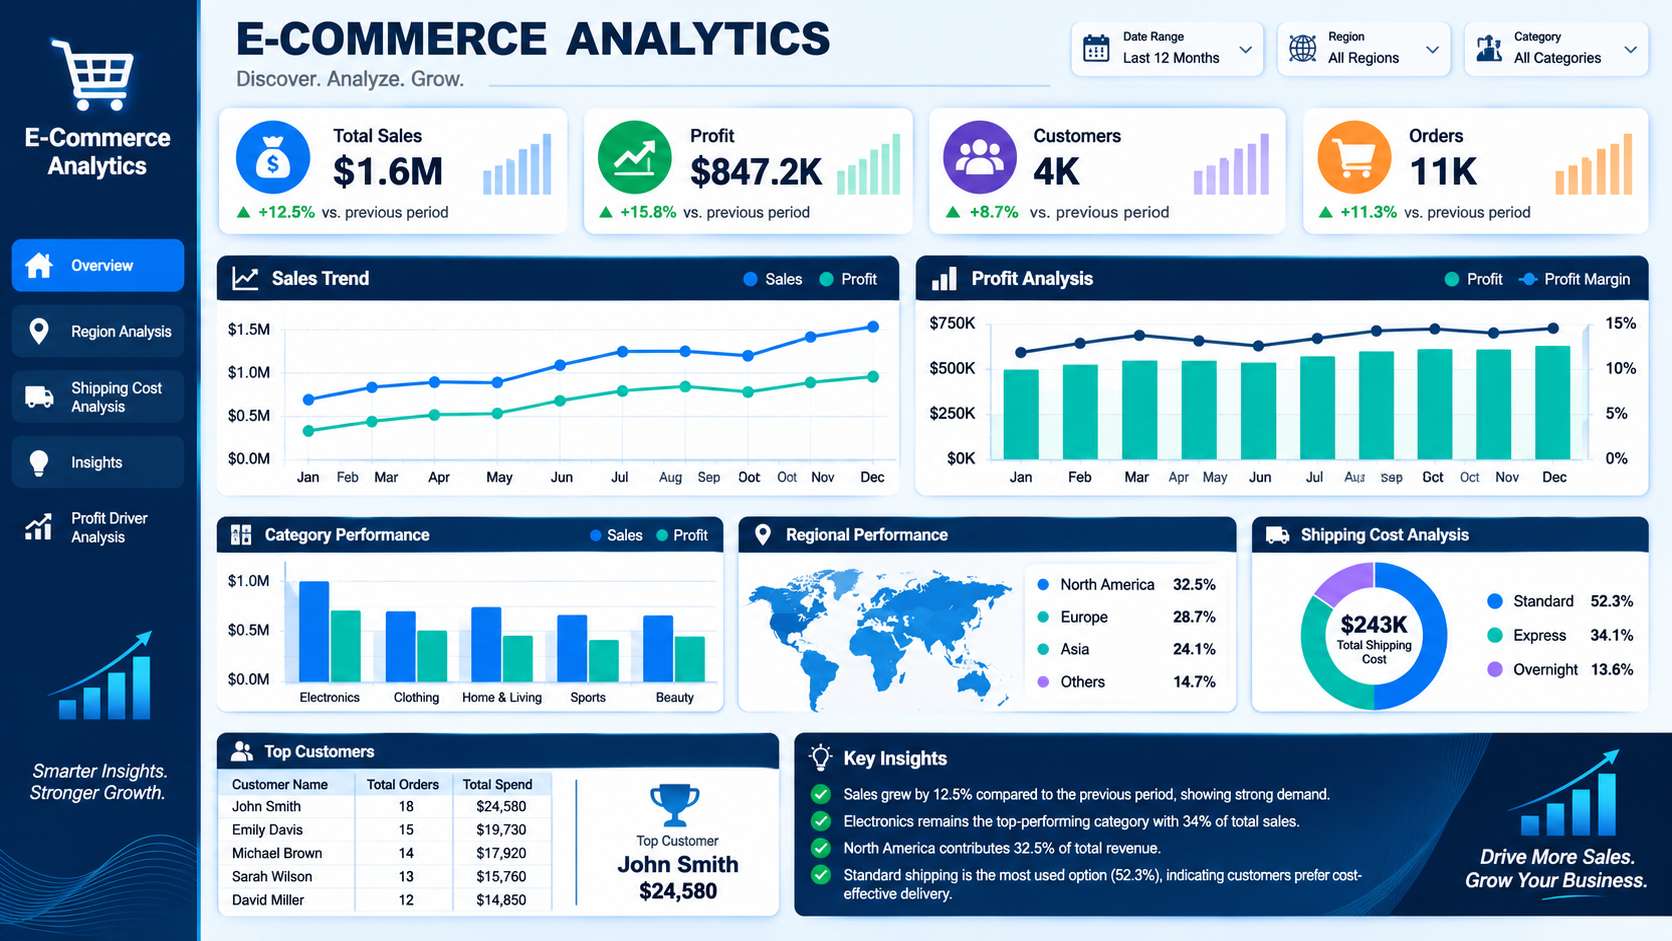

The dashboard page shown, as its layout file describes it:
{"tool":"powerbi","page":{"name":"Home","canvas":[1920,1080],"ordinal":0},"visuals":[{"type":"shape","box":[370.6,0,1054.6,172.9],"z":0},{"type":"textbox","title":"E-Commerce Analyis","box":[661.6,49.7,532.3,69.6],"z":1000},{"type":"image","box":[518.6,7.5,120.6,165.4],"z":2000},{"type":"shape","box":[21.1,148,431.6,204],"z":3000},{"type":"cardVisual","fields":{"Data":["Measures (2).Total Sales"]},"box":[64.7,210.2,344.5,102],"z":4000},{"type":"textbox","title":"Sales by Category","box":[131.8,386.8,552.2,44.8],"z":5000},{"type":"shape","box":[452.7,148,431.6,204],"z":6000},{"type":"cardVisual","fields":{"Data":["Measures (2).Profit"]},"box":[488.6,203.3,344.5,102],"z":7000},{"type":"textbox","title":"Profit","box":[545.8,183.4,238.8,44.8],"z":8000},{"type":"shape","box":[907.9,151.7,431.6,204],"z":9000},{"type":"shape","box":[1358.1,151.7,431.6,204],"z":10000},{"type":"cardVisual","fields":{"Data":["Measures (2).Total Customers"]},"box":[957.2,211.3,344.5,102],"z":11000},{"type":"textbox","title":"Total Customers","box":[1014.5,191.4,238.8,44.8],"z":12000},{"type":"cardVisual","fields":{"Data":["Measures (2).Total Orders"]},"box":[1406,212.3,344.5,102],"z":13000},{"type":"textbox","title":"Total Orders","box":[1463.2,192.4,238.8,44.8],"z":14000},{"type":"slicer","fields":{"Values":["dim_region.Region"]},"box":[1657.8,355.7,236.3,114.4],"z":15000},{"type":"slicer","fields":{"Values":["dim_products.Category"]},"box":[1657.8,480.1,236.3,150.5],"z":16000},{"type":"actionButton","box":[1676.5,24.9,200.2,126.9],"z":17000},{"type":"shape","box":[0,325.8,847,737.5],"z":18000},{"type":"clusteredColumnChart","fields":{"Category":["dim_products.Category"],"Y":["Measures (2).Total Sales"]},"box":[64.7,467.6,720.1,497.5],"z":19000},{"type":"textbox","title":"Total Sales","box":[131.8,187.8,238.8,44.8],"z":20000},{"type":"shape","box":[810.9,325.8,847,737.5],"z":21000},{"type":"clusteredColumnChart","fields":{"Category":["dim_products.Category"],"Y":["Measures (2).Profit"]},"box":[874.3,467.6,720.1,497.5],"z":22000},{"type":"textbox","title":"Profit by Category","box":[1105.6,386.8,344.5,44.8],"z":23000}]}

Visuals, with their boxes in screenshot pixels (x1, y1, x2, y2), scaled from the page's 1920x1080 canvas onto the 1672x941 screenshot:
shape: <box>323,0,1241,151</box>
"E-Commerce Analyis" textbox: <box>576,43,1040,104</box>
image: <box>452,7,557,151</box>
shape: <box>18,129,394,307</box>
cardVisual - Measures (2).Total Sales: <box>56,183,356,272</box>
"Sales by Category" textbox: <box>115,337,596,376</box>
shape: <box>394,129,770,307</box>
cardVisual - Measures (2).Profit: <box>425,177,725,266</box>
"Profit" textbox: <box>475,160,683,199</box>
shape: <box>791,132,1166,310</box>
shape: <box>1183,132,1559,310</box>
cardVisual - Measures (2).Total Customers: <box>834,184,1134,273</box>
"Total Customers" textbox: <box>883,167,1091,206</box>
cardVisual - Measures (2).Total Orders: <box>1224,185,1524,274</box>
"Total Orders" textbox: <box>1274,168,1482,207</box>
slicer - dim_region.Region: <box>1444,310,1649,410</box>
slicer - dim_products.Category: <box>1444,418,1649,549</box>
actionButton: <box>1460,22,1634,132</box>
shape: <box>0,284,738,926</box>
clusteredColumnChart - dim_products.Category x Measures (2).Total Sales: <box>56,407,683,841</box>
"Total Sales" textbox: <box>115,164,323,203</box>
shape: <box>706,284,1444,926</box>
clusteredColumnChart - dim_products.Category x Measures (2).Profit: <box>761,407,1388,841</box>
"Profit by Category" textbox: <box>963,337,1263,376</box>
